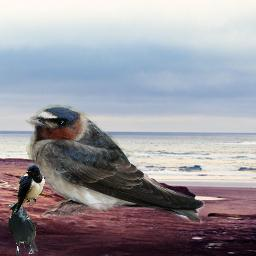Crow: (8, 202, 38, 254)
Swallow: (23, 104, 206, 225), (9, 164, 45, 215)
